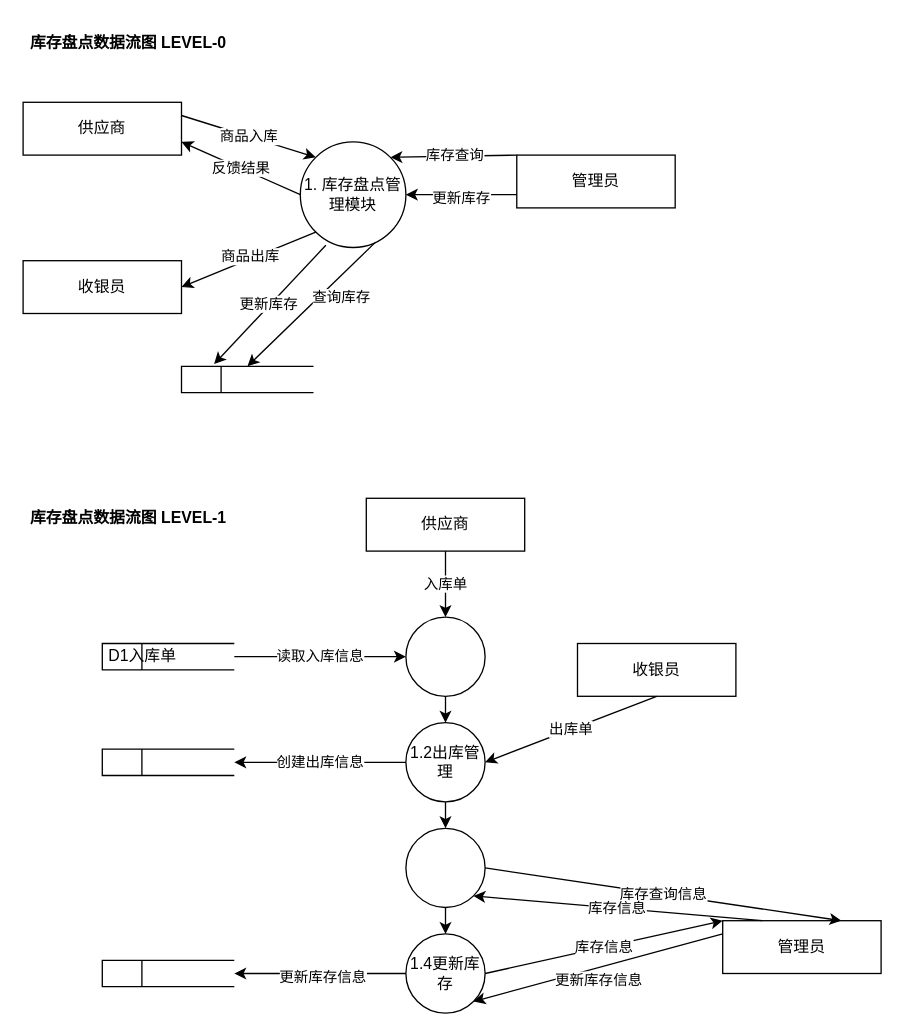
Image size: 904x1036. Some labels were removed from this diagram. Each missing label, with the box of its shape:
1.1入库管理: (405, 616, 485, 696)
1.3库存查询: (405, 827, 485, 908)
D1库存数据库: (180, 365, 314, 393)
D2 库存信息: (101, 959, 234, 987)
D2出库单: (101, 748, 234, 776)
